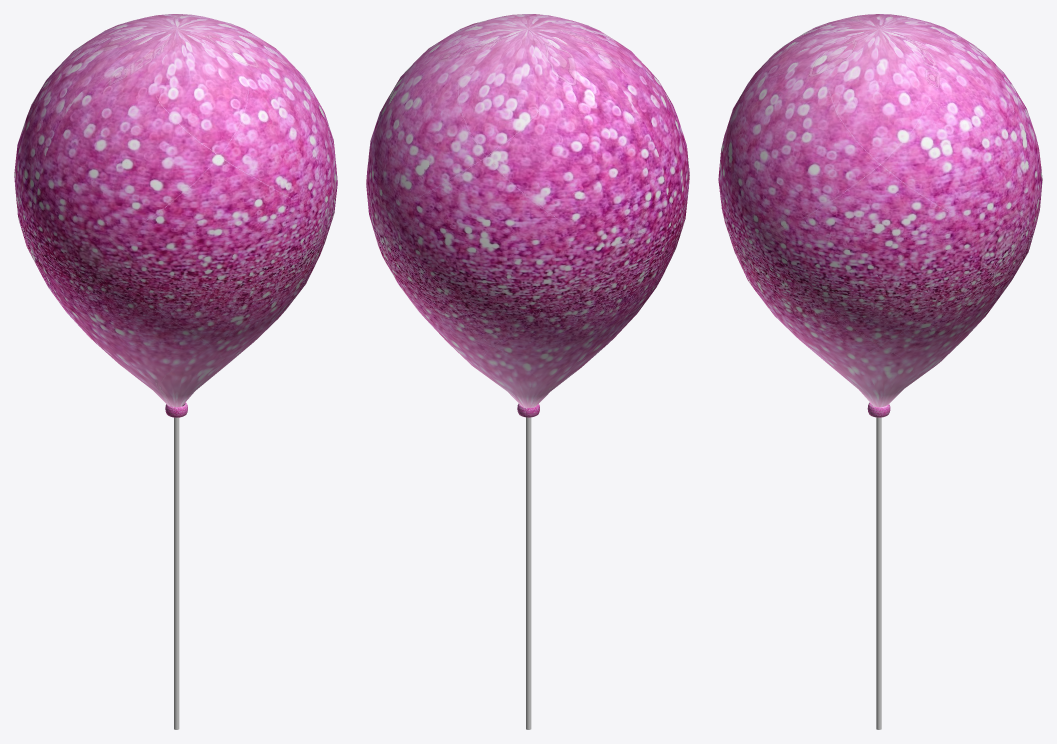
The model's file is balloon_pink_3.glb.
3 renders of one model, left to right at view 1: azimuth 30°, elevation 25°; view 2: azimuth 150°, elevation 25°; view 3: azimuth 270°, elevation 25°, orthographic.
Parts seen in each view (by area): view 1: Sphere.005, Cylinder.005; view 2: Sphere.005, Cylinder.005; view 3: Sphere.005, Cylinder.005.
Boxes of the visible parts, bbox=[...] form: Sphere.005: bbox=[14, 14, 337, 407]; Cylinder.005: bbox=[174, 417, 179, 729]; Sphere.005: bbox=[366, 14, 689, 407]; Cylinder.005: bbox=[526, 417, 531, 729]; Sphere.005: bbox=[718, 14, 1042, 407]; Cylinder.005: bbox=[876, 417, 881, 729].
Size of the model in its own units: 2 by 4.76 by 2.
2 materials, 2 textured.
